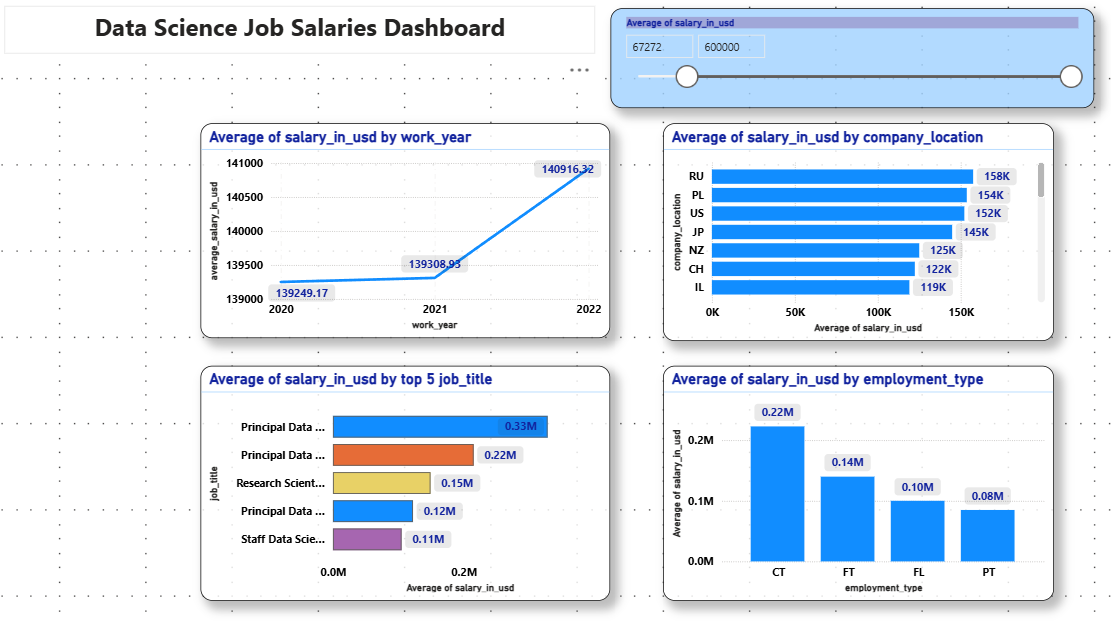

Layout of this report page (visuals, bound fields, positions):
{"tool":"powerbi","page":{"name":"Page 1","canvas":[1280,720],"ordinal":0},"visuals":[{"type":"lineChart","fields":{"Category":["Data Science Job Salaries.work_year"],"Y":["Avg(Data Science Job Salaries.salary_in_usd)"]},"box":[253.2,146.1,456.3,239.3],"z":0},{"type":"clusteredBarChart","title":"Average of salary_in_usd by top 5 job_title","fields":{"Category":["Data Science Job Salaries.job_title"],"Y":["Avg(Data Science Job Salaries.salary_in_usd)"]},"box":[253.2,416,456.3,261.6],"z":1000},{"type":"textbox","box":[34.8,15.3,658.1,52.9],"z":2000},{"type":"clusteredBarChart","fields":{"Category":["Data Science Job Salaries.company_location"],"Y":["Avg(Data Science Job Salaries.salary_in_usd)"]},"box":[768,146.1,435.5,242.1],"z":3000},{"type":"columnChart","fields":{"Y":["Avg(Data Science Job Salaries.salary_in_usd)"],"Category":["Data Science Job Salaries.employment_type"]},"box":[768,416,435.5,261.6],"z":4000},{"type":"slicer","fields":{"Values":["Data Science Job Salaries.salary_in_usd"]},"box":[709.6,18.1,538.4,111.3],"z":4001}]}

Visuals, with their boxes in screenshot pixels (x1, y1, x2, y2), scaled from the page's 1280x720 canvas onto the 1111x621 screenshot:
lineChart - Data Science Job Salaries.work_year x Avg(Data Science Job Salaries.salary_in_usd): 220 126 616 332
"Average of salary_in_usd by top 5 job_title" clusteredBarChart: 220 359 616 584
textbox: 30 13 601 59
clusteredBarChart - Data Science Job Salaries.company_location x Avg(Data Science Job Salaries.salary_in_usd): 667 126 1045 335
columnChart - Avg(Data Science Job Salaries.salary_in_usd) x Data Science Job Salaries.employment_type: 667 359 1045 584
slicer - Data Science Job Salaries.salary_in_usd: 616 16 1083 112
